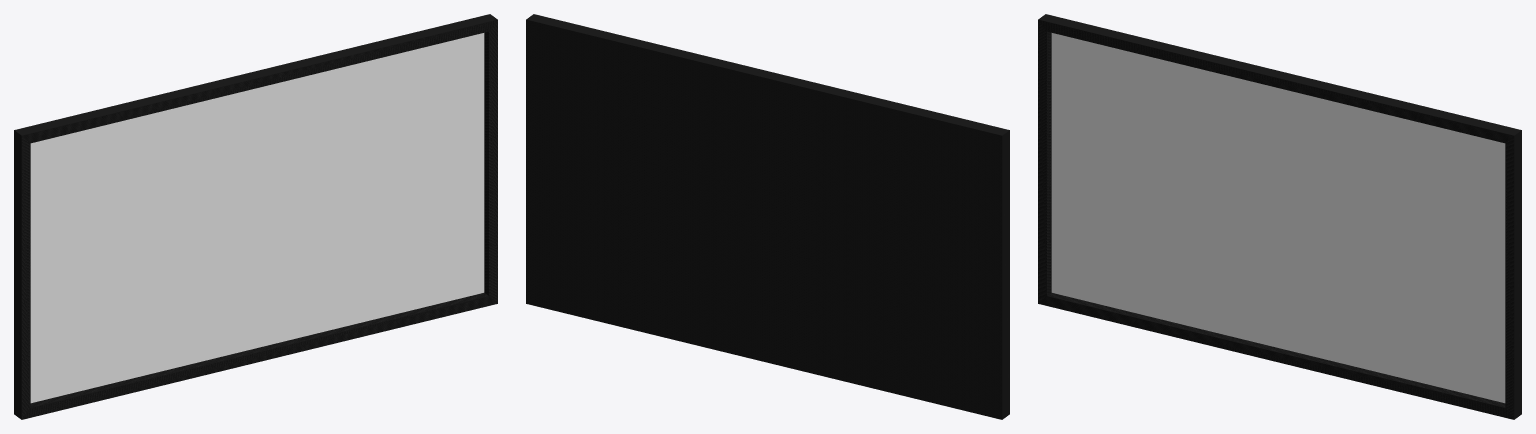
File: Photo frame V2.FBX
3 views of the same model, side by side, from view 1: azimuth 30°, elevation 25°; view 2: azimuth 150°, elevation 25°; view 3: azimuth 330°, elevation 25° (orthographic).
Visible parts, largest first — view 1: Box002; view 2: Box002; view 3: Box002.
Boxes of the visible parts, left/top/right/bottom form: Box002: left=14, top=14, right=497, bottom=419; Box002: left=526, top=14, right=1009, bottom=419; Box002: left=1038, top=14, right=1521, bottom=419.
Size of the model in its own units: 315 by 180 by 8.72.
2 materials, 1 textured.
